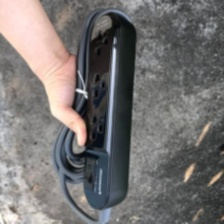three_eye_plug: (76, 7, 141, 217)
